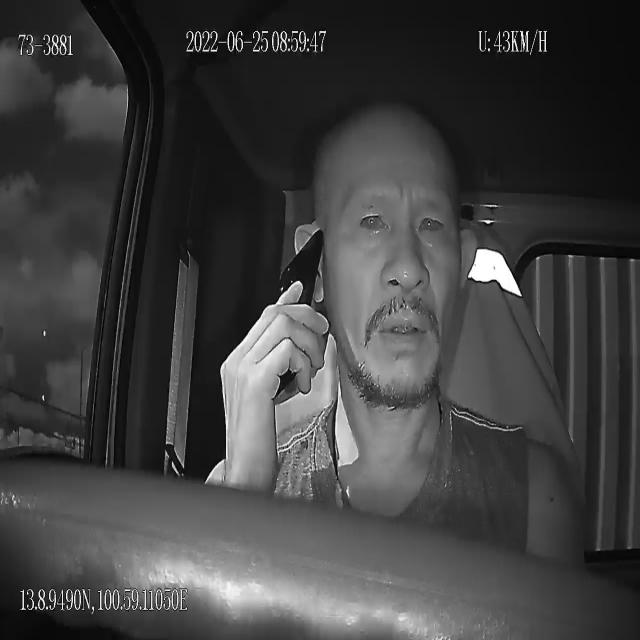phone: (273, 228, 325, 408)
